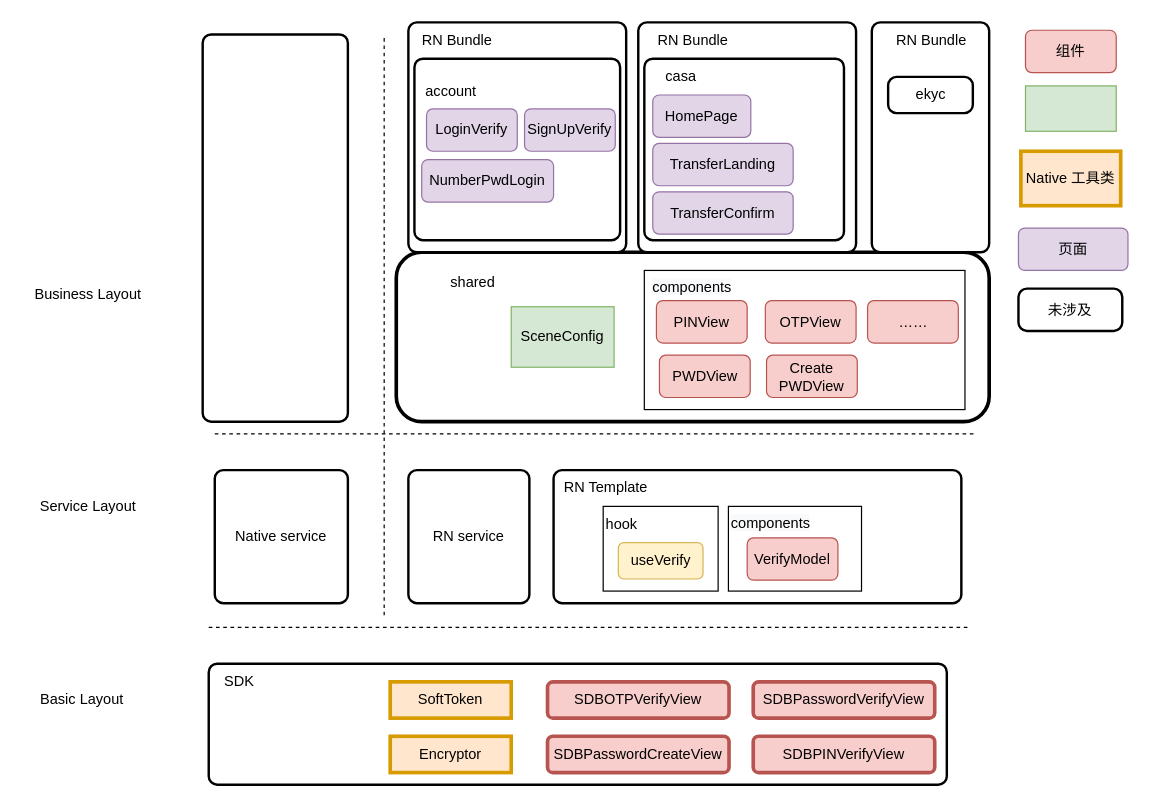
The diagram is 1150 pixels wide and 806 high, and some of its shapes have lost their labels. Here are the shapes that lost their labels. From the top down, the centre of each, then its label:
(1070,108): 配置化文件
(274,227): SeaBankAppMain
